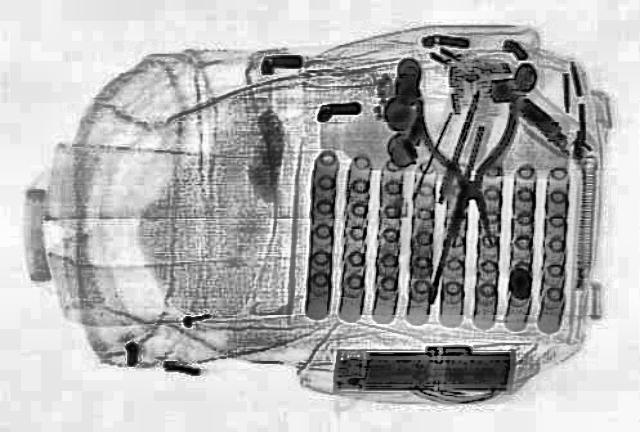Pliers: (413, 97, 521, 247)
